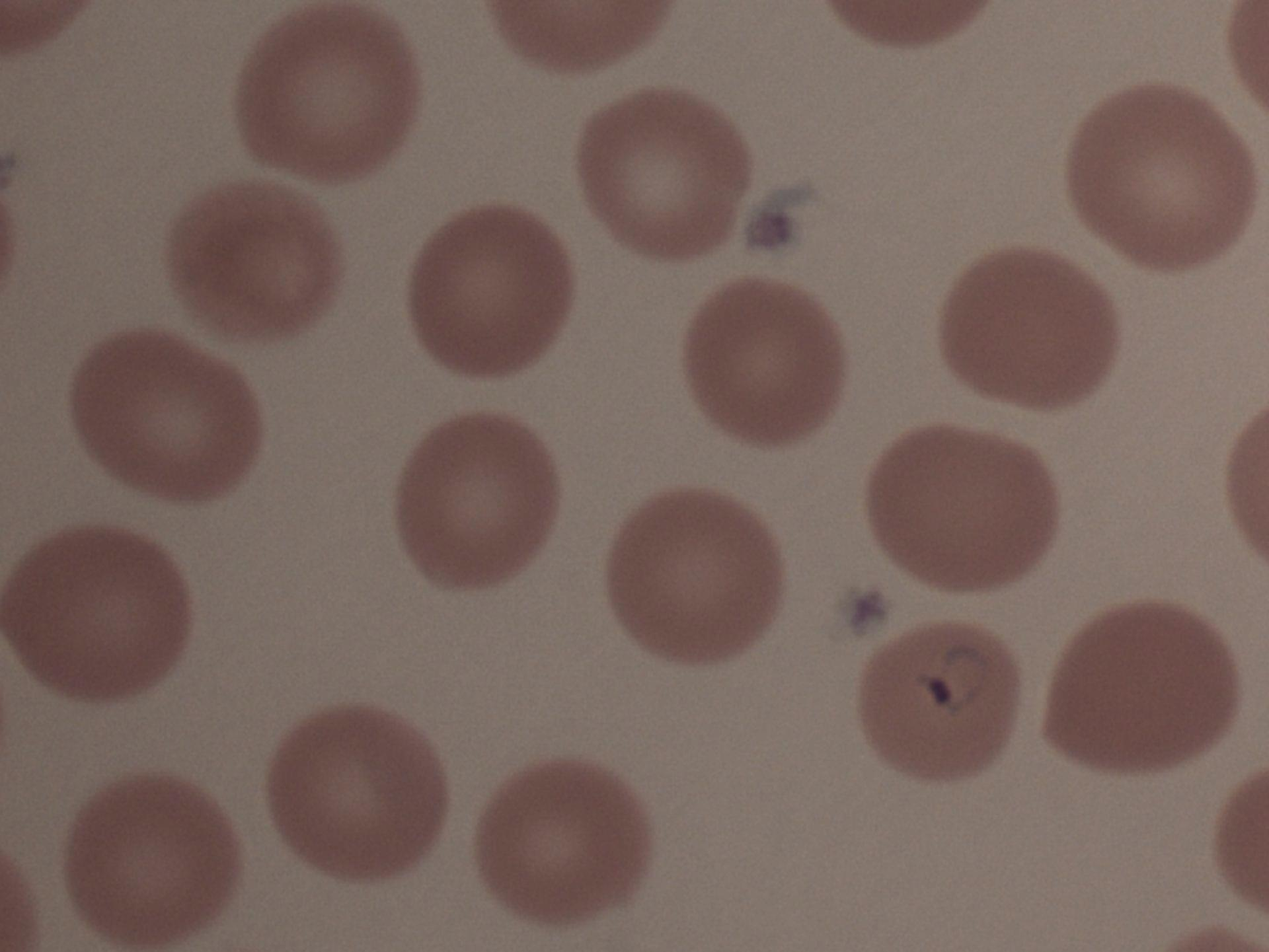Infected: (859, 621, 1025, 783)
Uninfected: (1041, 601, 1240, 776), (3, 525, 194, 704), (1069, 84, 1254, 264), (69, 330, 259, 501), (865, 425, 1058, 593), (266, 706, 448, 882), (237, 7, 418, 179), (607, 490, 785, 662), (63, 774, 242, 943), (582, 91, 752, 259), (938, 249, 1116, 409), (395, 415, 560, 587), (474, 760, 647, 922), (408, 206, 574, 373), (683, 279, 848, 442), (169, 182, 337, 340)
